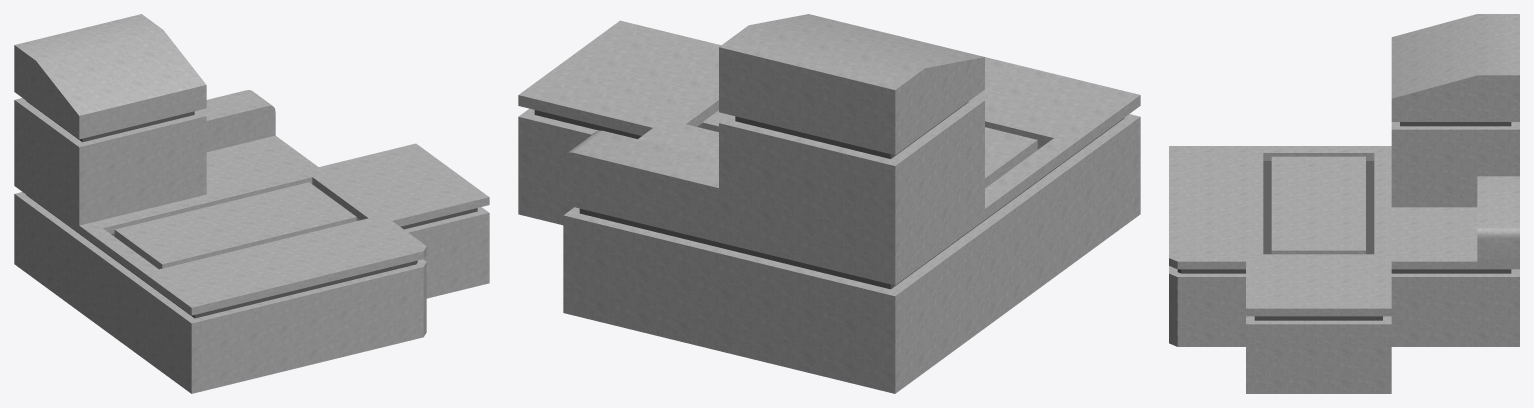
File: shop.fbx
3 renders of one model, left to right at view 1: azimuth 30°, elevation 25°; view 2: azimuth 150°, elevation 25°; view 3: azimuth 270°, elevation 25°, orthographic. The views are drawn at different scales.
Parts seen in each view (by area): view 1: mesh_31; view 2: mesh_31; view 3: mesh_31.
Part boxes in pixels (<box>): mesh_31: <box>14,14,489,393</box>; mesh_31: <box>518,14,1140,393</box>; mesh_31: <box>1169,14,1519,393</box>.
Size of the model in its own units: 720 by 448 by 656.
2 materials, 1 textured.
